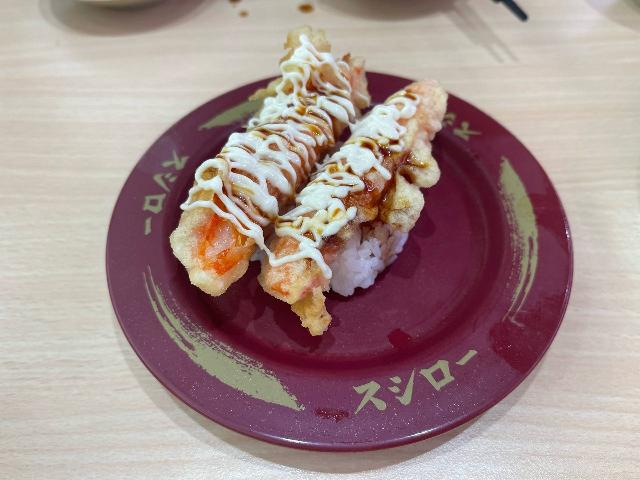janred: (137, 84, 549, 427)
